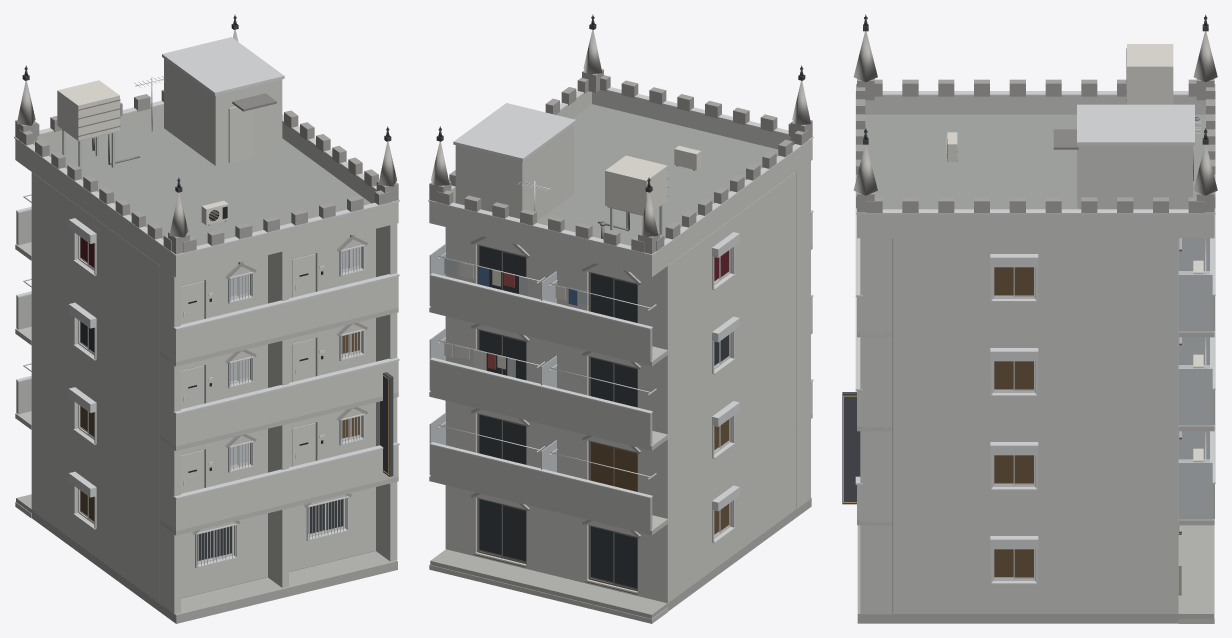
File: blk_skyline1.glb
3 views of the same model, side by side, from view 1: azimuth 30°, elevation 25°; view 2: azimuth 150°, elevation 25°; view 3: azimuth 270°, elevation 25° (orthographic). The views are drawn at different scales.
Visible parts, largest first — view 1: blk_skyline1; view 2: blk_skyline1; view 3: blk_skyline1.
Part boxes in pixels (x1=…): blk_skyline1: x1=14, y1=14, x2=399, y2=623; blk_skyline1: x1=428, y1=14, x2=813, y2=623; blk_skyline1: x1=842, y1=14, x2=1217, y2=623.
Size of the model in its own units: 8.46 by 15.2 by 10.5.
